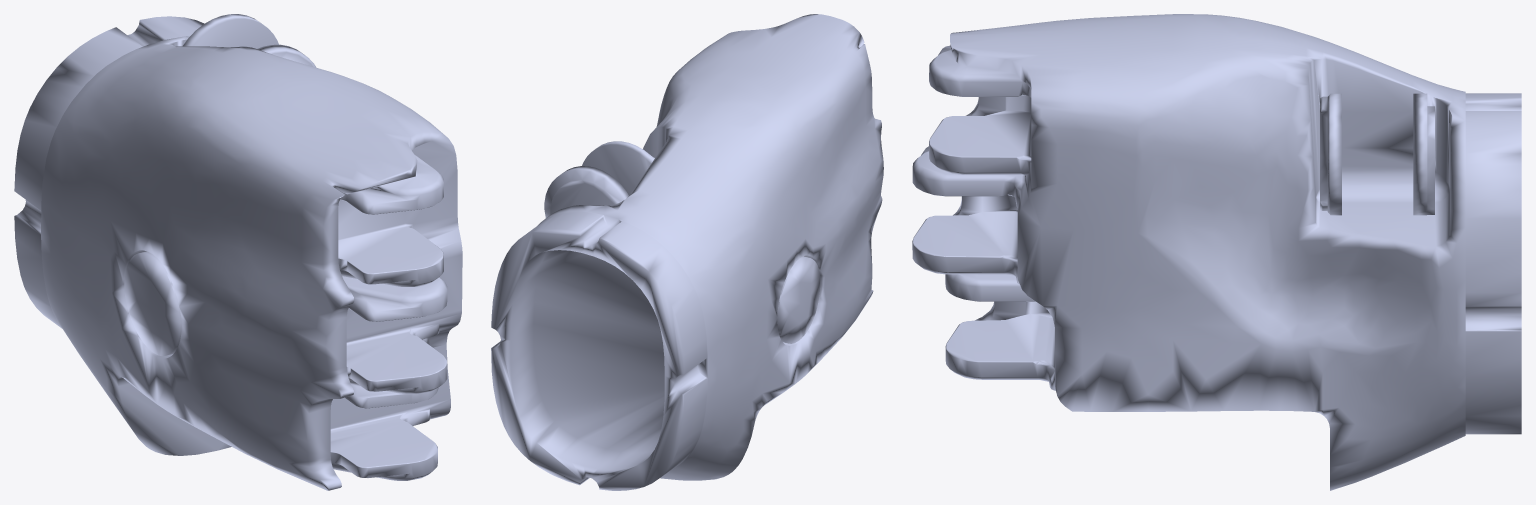
File: right_hand_C_MC_visual_cad1ee.glb
The picture shows the model from 3 angles, left to right: view 1: azimuth 30°, elevation 25°; view 2: azimuth 150°, elevation 25°; view 3: azimuth 270°, elevation 25°; orthographic projection. The views are drawn at different scales.
Parts seen in each view (by area): view 1: right_hand_C_MC_visual_0; view 2: right_hand_C_MC_visual_0; view 3: right_hand_C_MC_visual_0.
Boxes of the visible parts, x1,y1,x2,y2 form: right_hand_C_MC_visual_0: (14,14,462,490); right_hand_C_MC_visual_0: (491,14,883,490); right_hand_C_MC_visual_0: (912,14,1521,490).
Bounding box in the file's own units: 0.0499 × 0.0851 × 0.1101.
